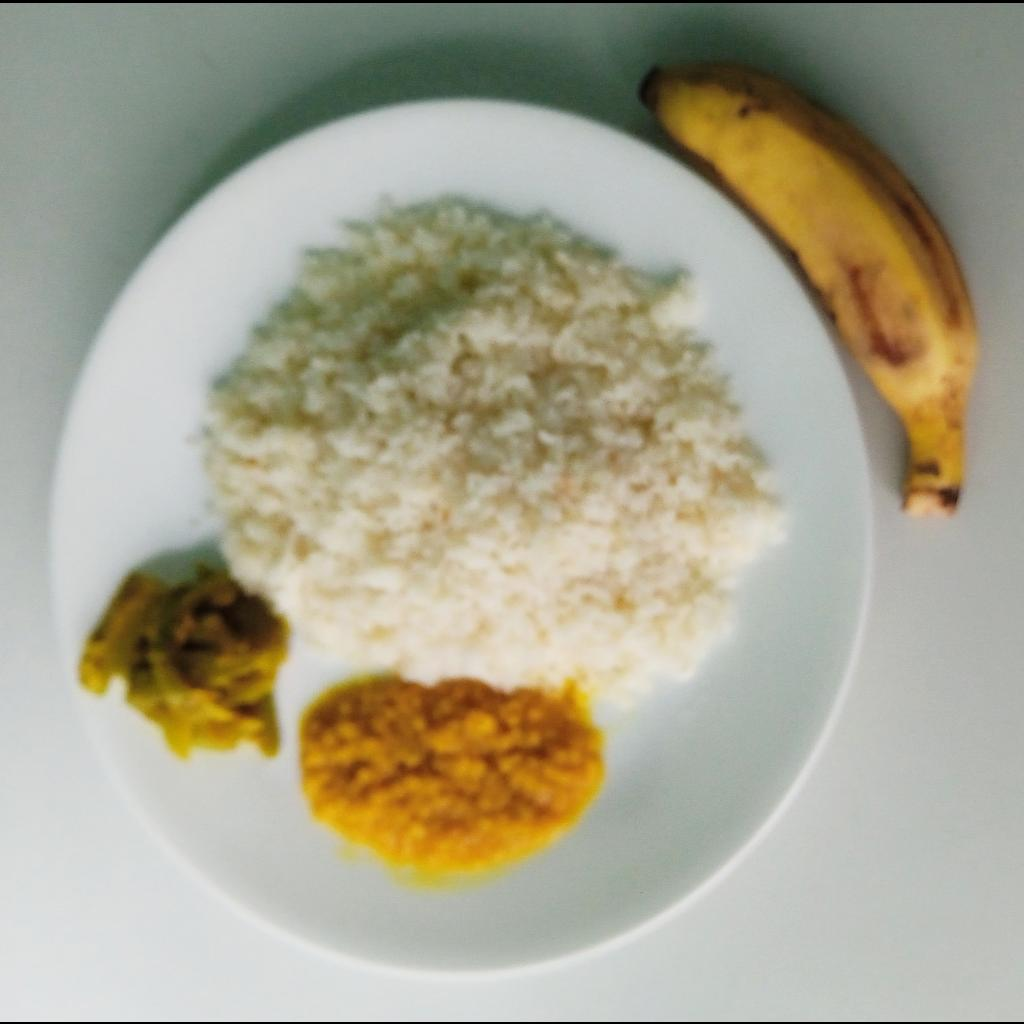banana: (635, 61, 979, 517)
daal: (301, 680, 598, 849)
dundol: (78, 569, 292, 763)
rice: (184, 203, 787, 694)
